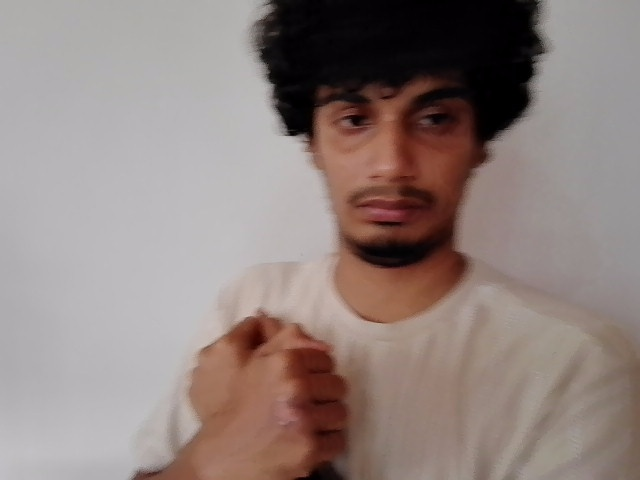love: (187, 308, 351, 478)
